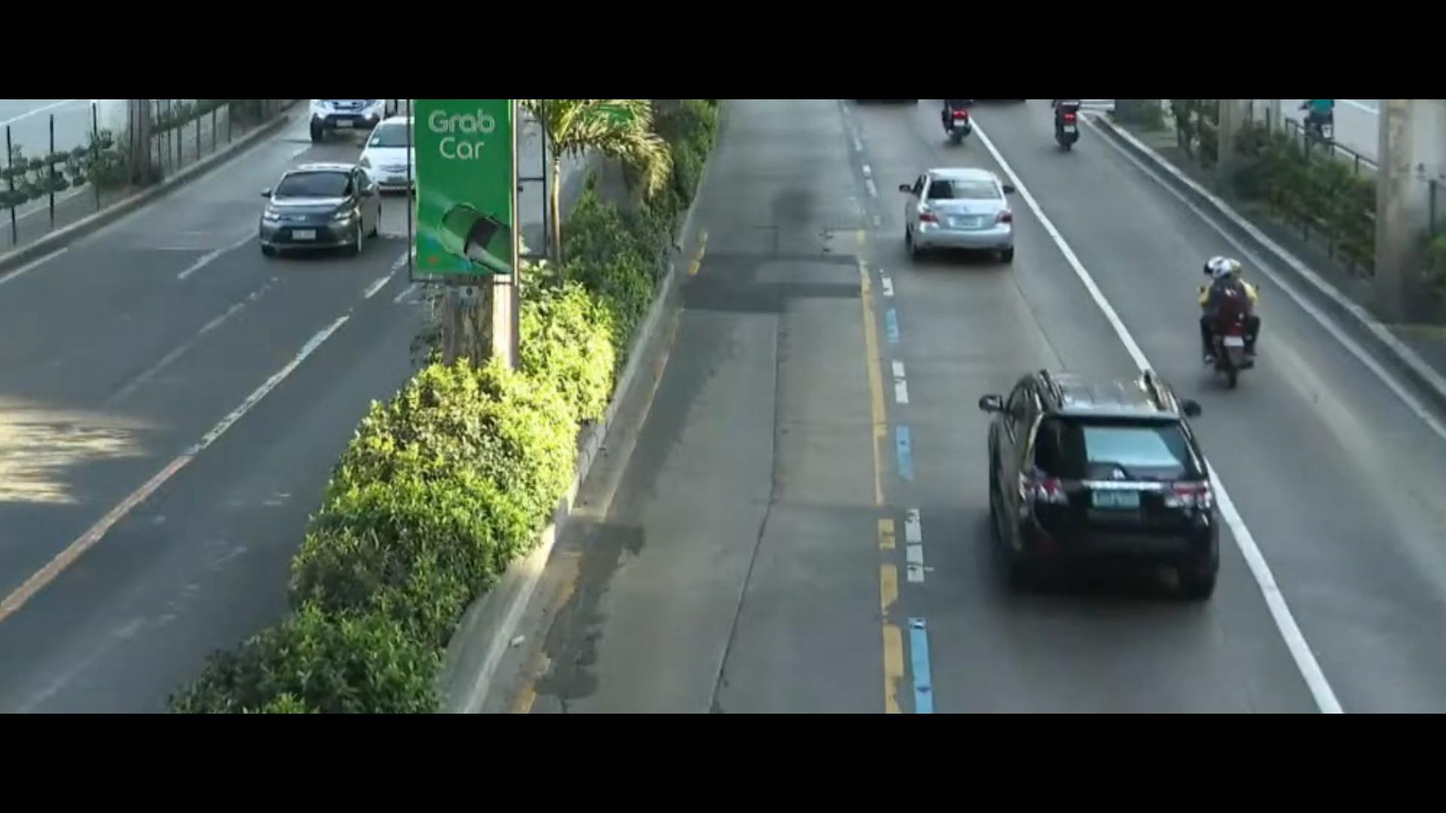Motorcycle: (1187, 247, 1288, 393), (1048, 96, 1093, 158), (940, 95, 983, 142)
SUV: (953, 349, 1242, 627)
Sedan: (900, 157, 1027, 262), (258, 151, 379, 253), (354, 106, 425, 201)
